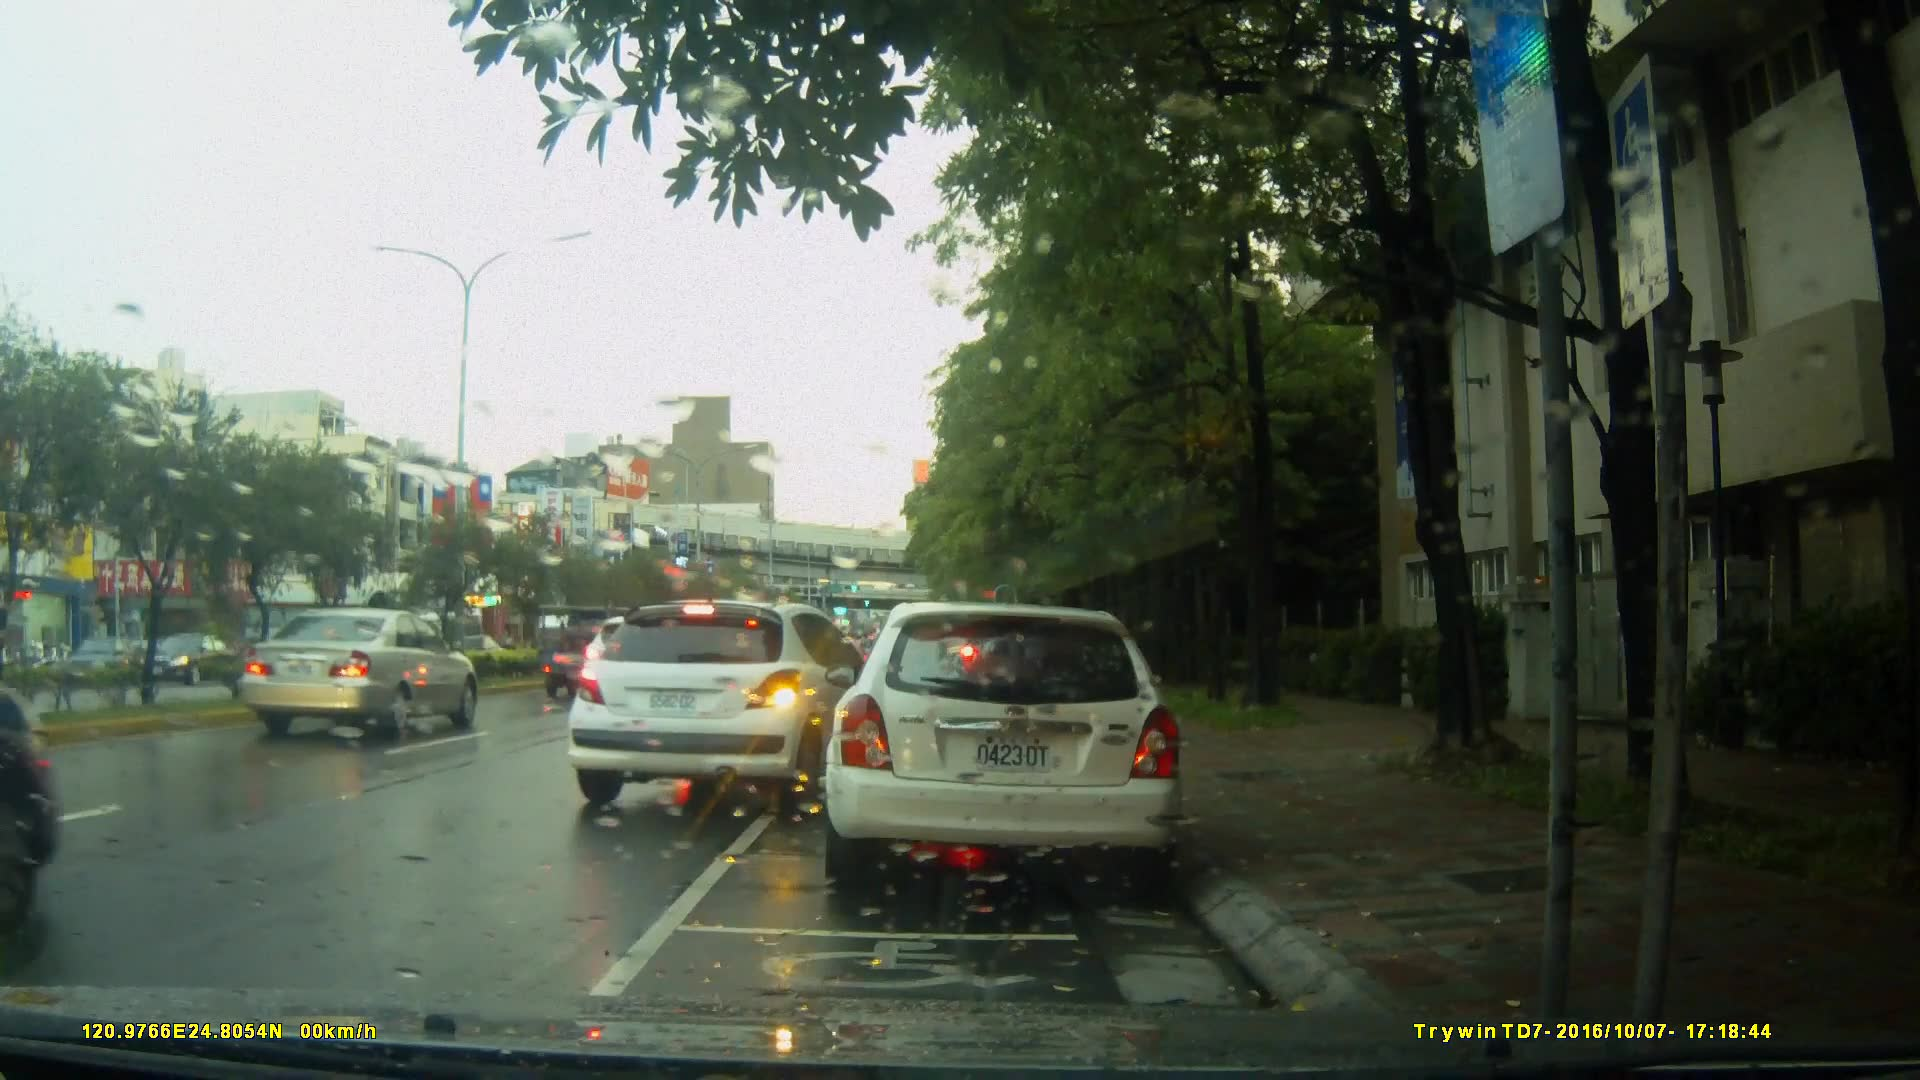vehicle: (820, 603, 1188, 898), (574, 597, 901, 814), (237, 607, 483, 738), (135, 634, 239, 688), (51, 633, 142, 684)
